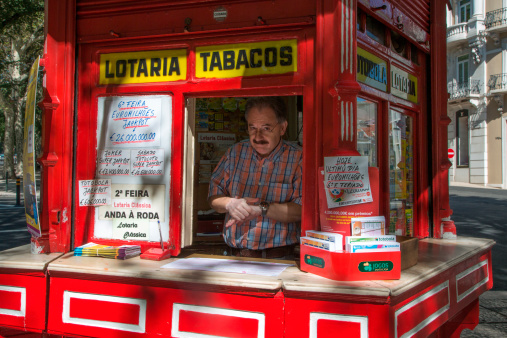em pe: (205, 100, 297, 257)
